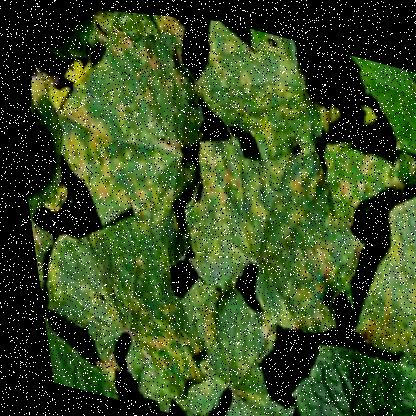DownyMildew: (163, 118, 350, 328), (23, 206, 197, 385), (338, 185, 415, 415)
